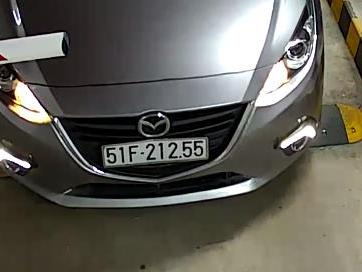car: (102, 138, 209, 167)
